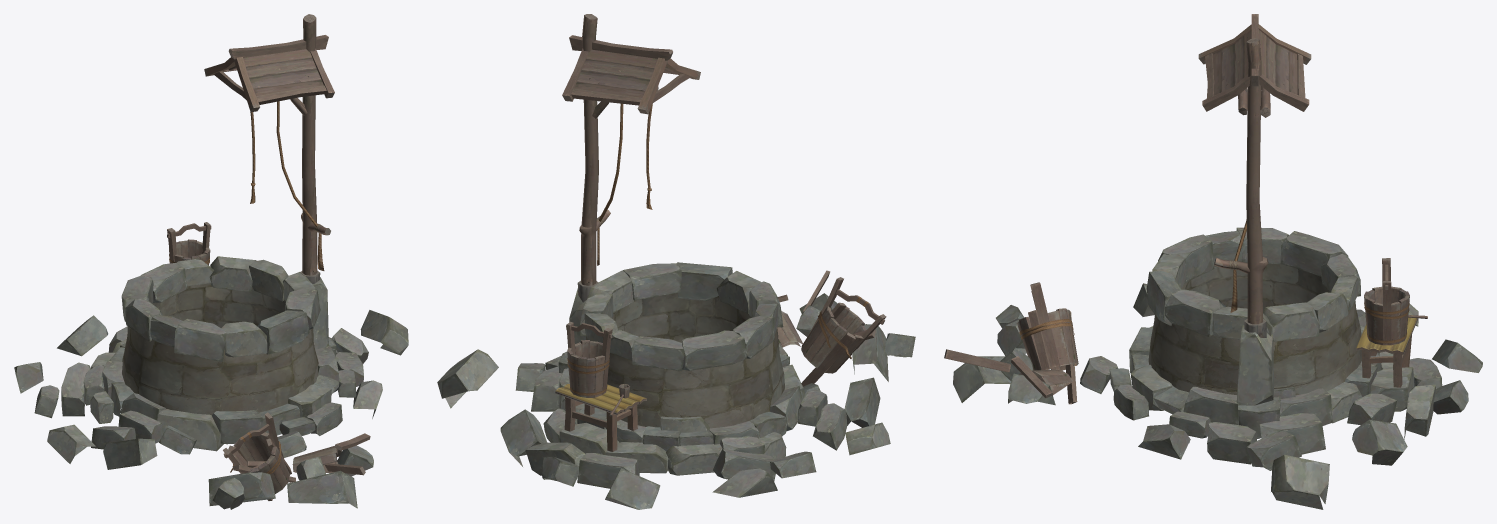
Rendered from Homeworld_Exterior_Dq_Decoration_Well_01_Lod0.fbx.
3 views of the same model, side by side, from view 1: azimuth 30°, elevation 25°; view 2: azimuth 150°, elevation 25°; view 3: azimuth 270°, elevation 25° (orthographic). The views are drawn at different scales.
Visible parts, largest first — view 1: Homeworld_Exterior_Dq_Decoration_Well_01_Lod0; view 2: Homeworld_Exterior_Dq_Decoration_Well_01_Lod0; view 3: Homeworld_Exterior_Dq_Decoration_Well_01_Lod0.
Part boxes in pixels (x1,y1,x2,y2): Homeworld_Exterior_Dq_Decoration_Well_01_Lod0: (14,14,408,509); Homeworld_Exterior_Dq_Decoration_Well_01_Lod0: (437,14,915,509); Homeworld_Exterior_Dq_Decoration_Well_01_Lod0: (944,14,1482,509).
Bounding box in the file's own units: 6.61 × 6.45 × 7.3.
